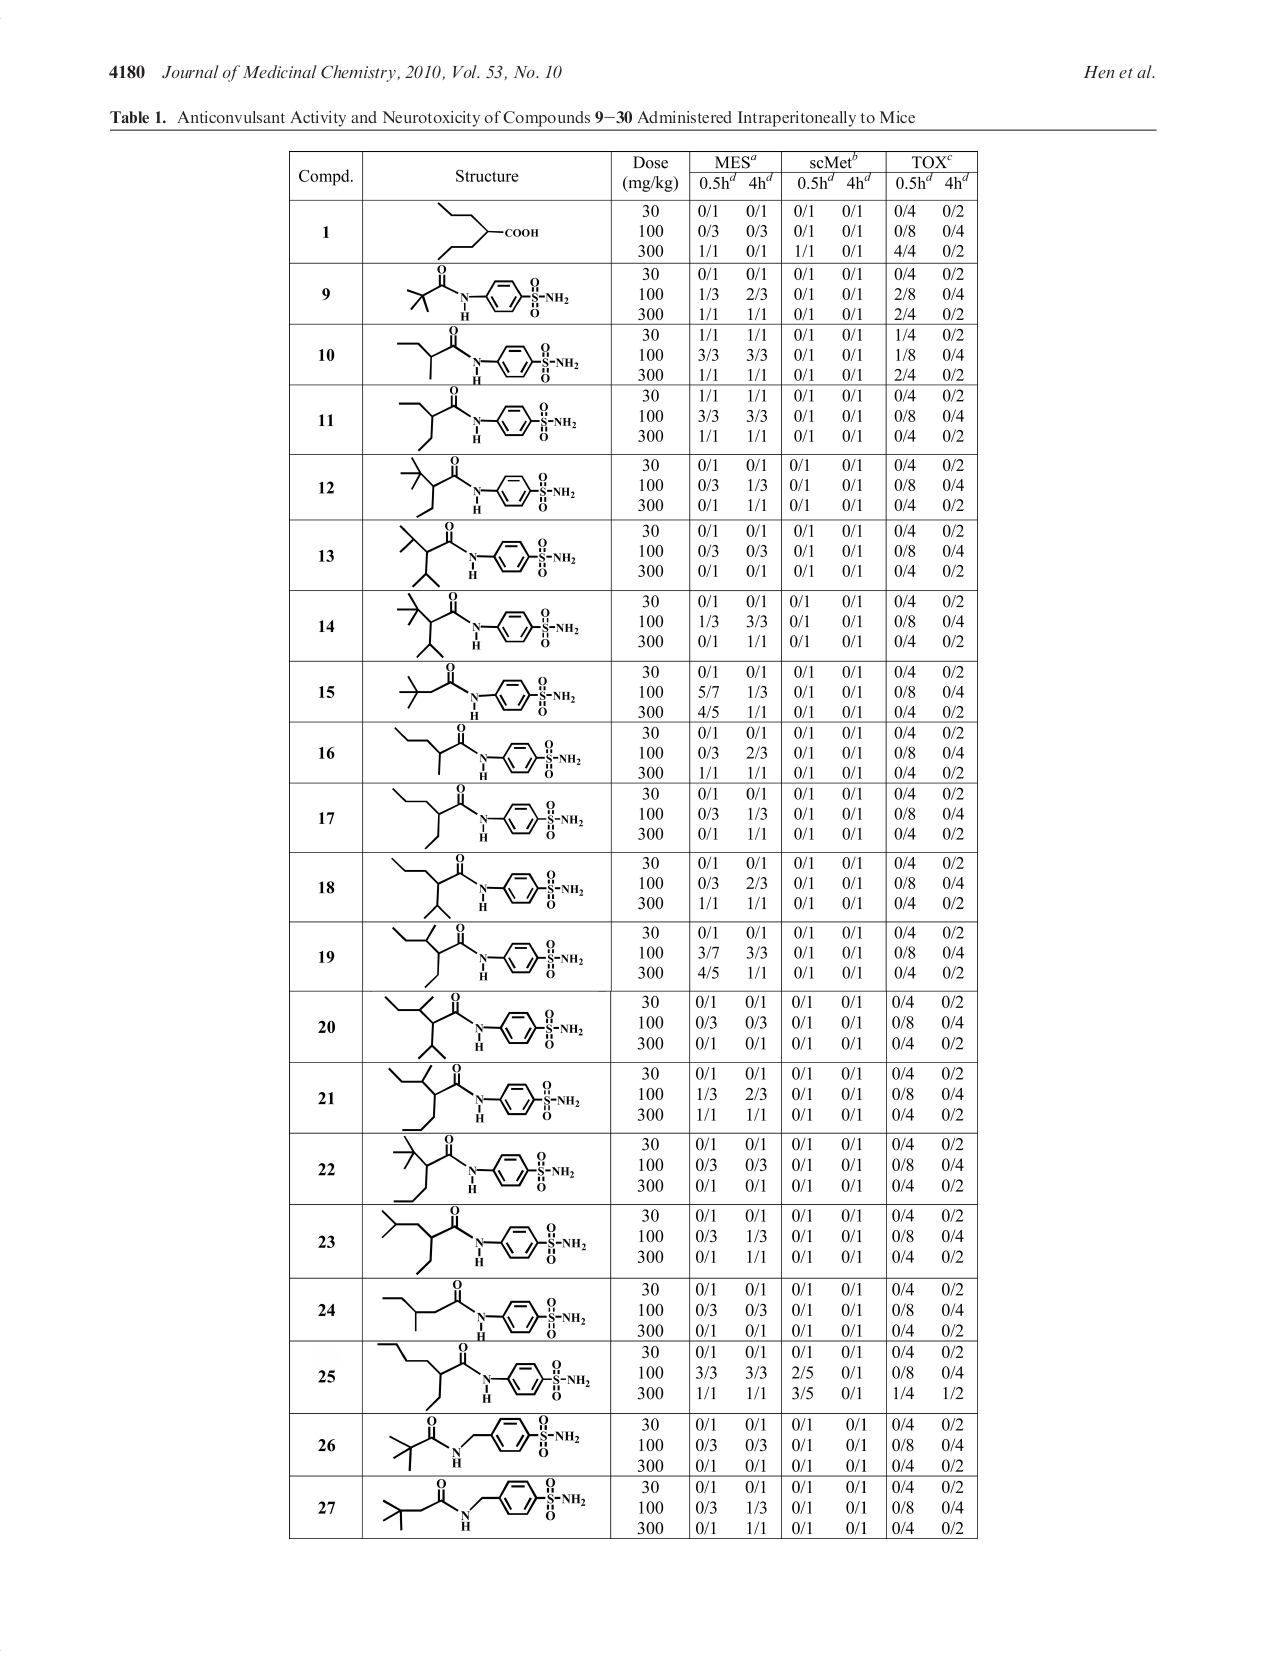exist_molecular: (374, 1341, 594, 1412), (375, 1205, 590, 1275), (392, 920, 593, 993), (382, 991, 588, 1059), (383, 1063, 580, 1130), (392, 786, 585, 852), (390, 1134, 576, 1202), (383, 1278, 588, 1339), (382, 1414, 585, 1475), (396, 386, 590, 449), (398, 523, 580, 589), (398, 323, 593, 384), (378, 1476, 590, 1531), (396, 593, 581, 656), (402, 457, 578, 519), (399, 662, 578, 722), (394, 725, 585, 781), (406, 266, 576, 317), (430, 202, 540, 259)
